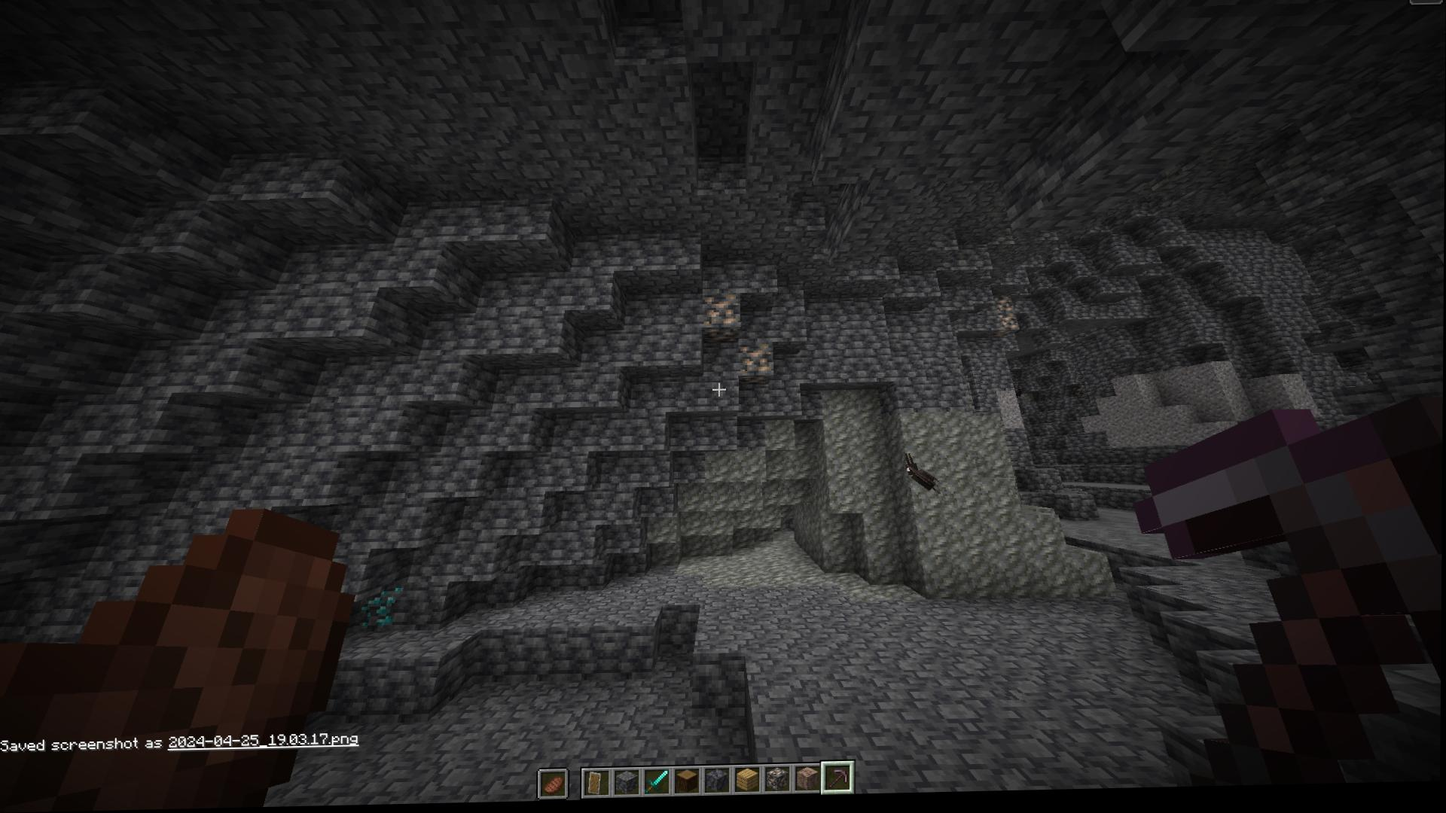iron ore: (701, 294, 741, 329), (739, 348, 775, 381), (706, 330, 739, 346), (995, 298, 1014, 319), (997, 319, 1017, 337)
